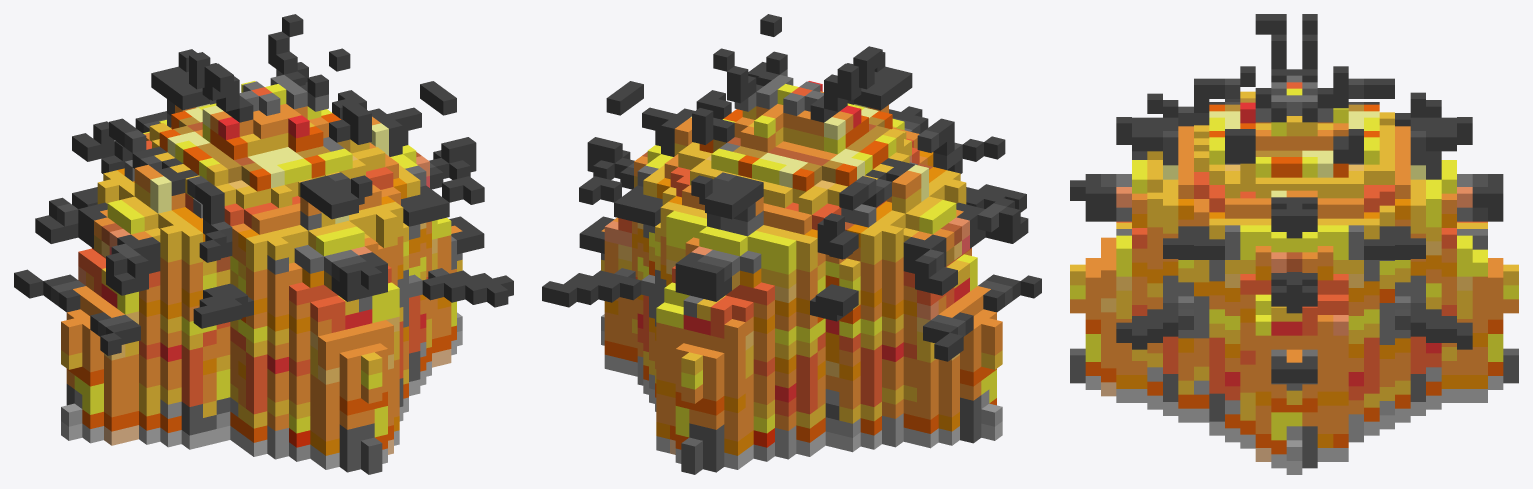
Rendered from Explosion 2.obj.
3 views of the same model, side by side, from view 1: azimuth 30°, elevation 25°; view 2: azimuth 150°, elevation 25°; view 3: azimuth 270°, elevation 25° (orthographic).
Size of the model in its own units: 3 by 2.4 by 2.9.
Materials: 1 (1 with a texture image).
